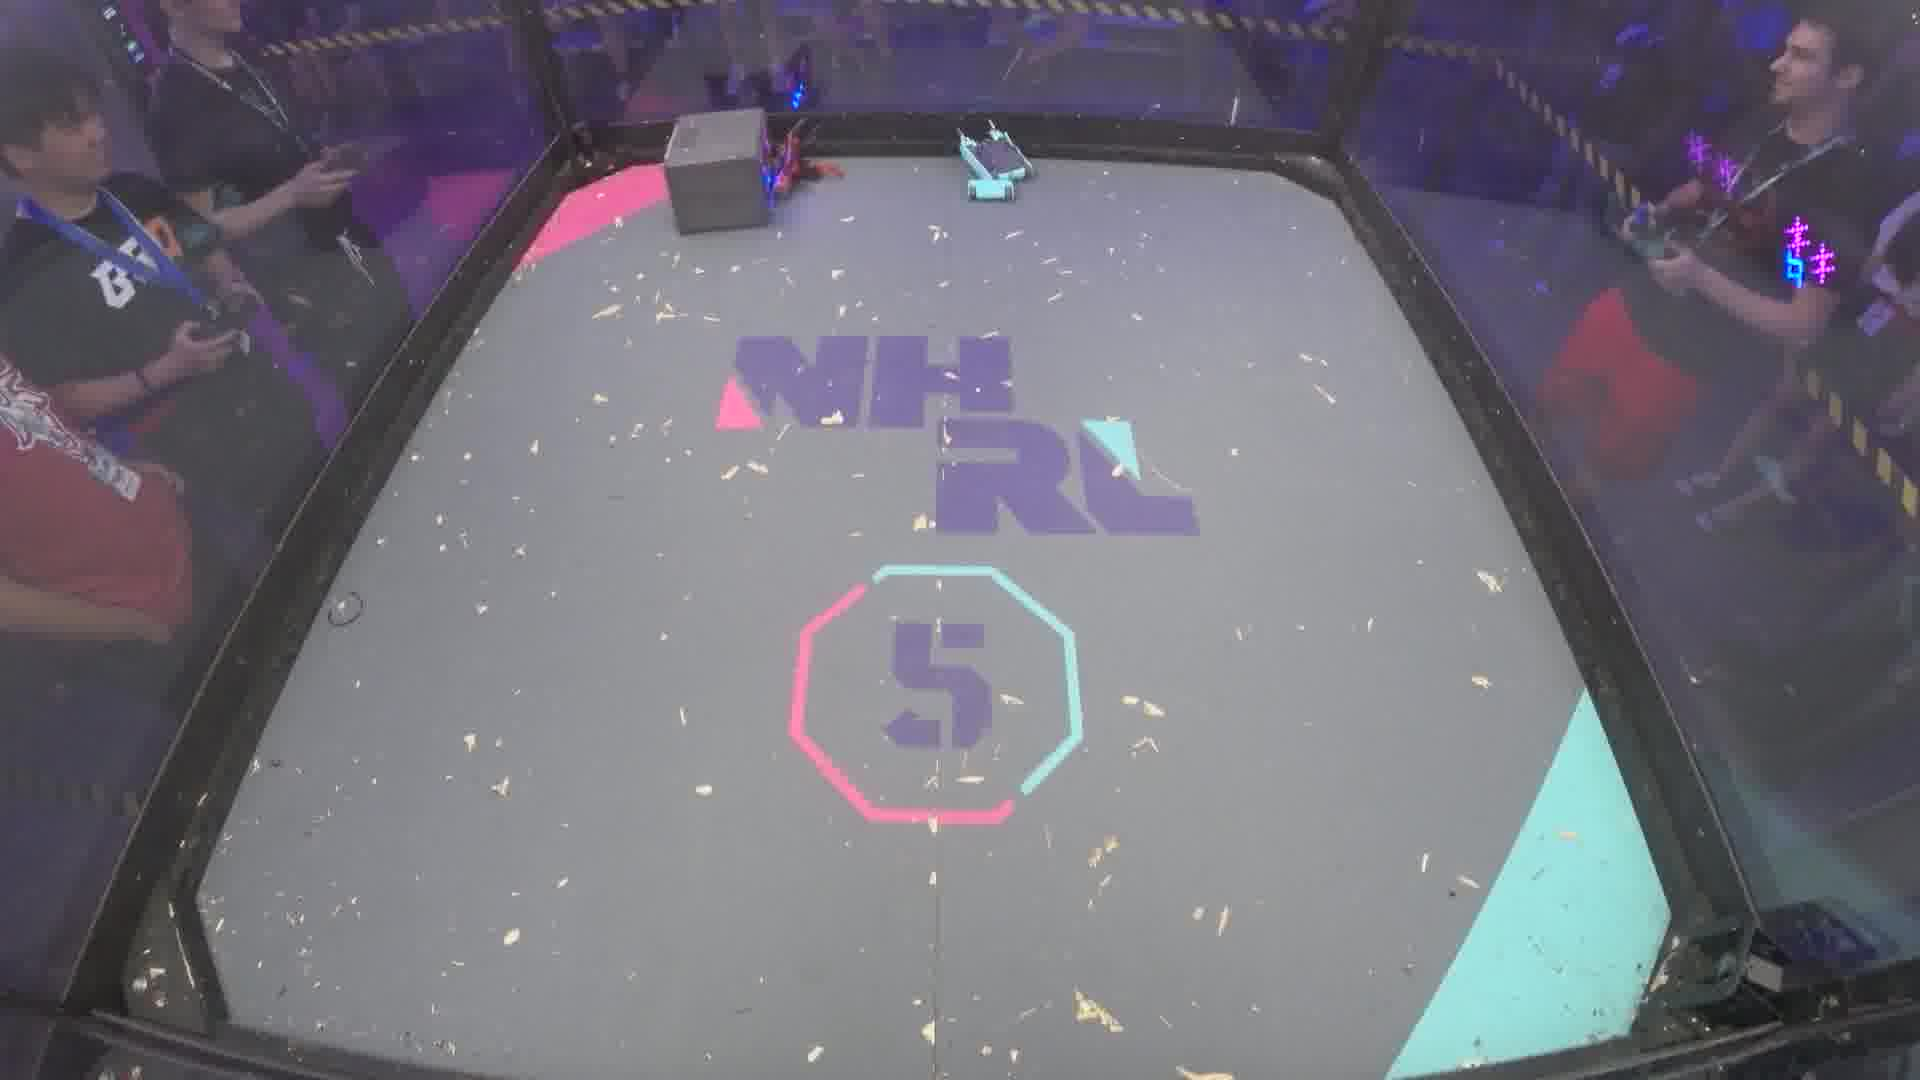combatbot: (949, 116, 1039, 179), (770, 128, 848, 190)
debris: (320, 591, 368, 629)
housebot: (662, 108, 781, 237)
minibot: (967, 178, 1017, 207)
